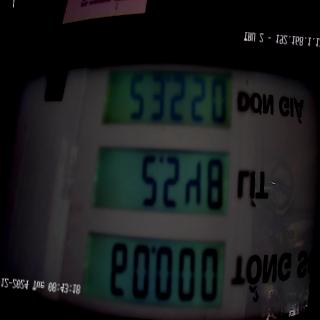screen: (77, 35, 249, 320)
